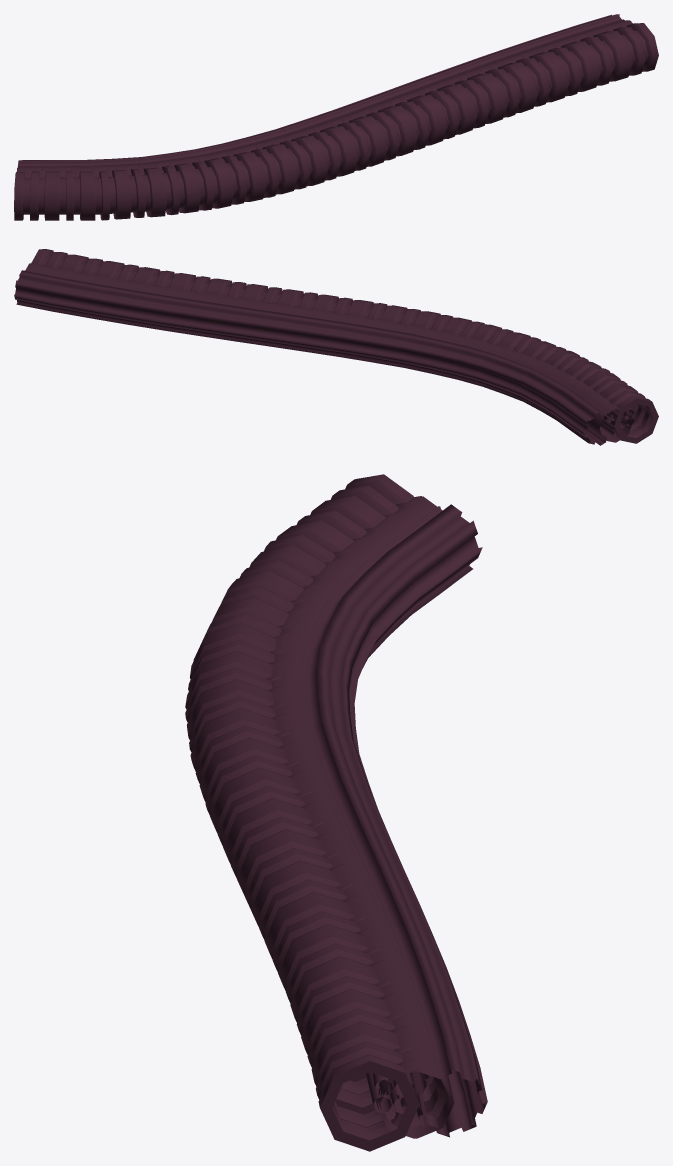
File: High Voltage Cables.fbx
3 views of the same model, one above another, from view 1: azimuth 30°, elevation 25°; view 2: azimuth 150°, elevation 25°; view 3: azimuth 270°, elevation 25° (orthographic). The views are drawn at different scales.
Visible parts, largest first — view 1: profile[01].001, profile[03].001, profile[00].001, profile[02].001; view 2: profile[03].001, profile[01].001, profile[00].001, profile[02].001, profile[04].001; view 3: profile[01].001, profile[03].001, profile[00].001, profile[02].001, profile[04].001.
Boxes of the visible parts, box(x1,y1,x2,y2) form: profile[01].001: box(14, 23, 658, 220); profile[03].001: box(17, 14, 624, 167); profile[00].001: box(17, 20, 629, 177); profile[02].001: box(16, 20, 632, 177); profile[03].001: box(14, 270, 615, 445); profile[01].001: box(31, 249, 658, 443); profile[00].001: box(26, 264, 632, 442); profile[02].001: box(29, 263, 633, 442); profile[04].001: box(81, 270, 634, 428); profile[01].001: box(185, 474, 419, 1151); profile[03].001: box(300, 504, 487, 1137); profile[00].001: box(268, 496, 454, 1138); profile[02].001: box(266, 496, 451, 1138); profile[04].001: box(283, 562, 412, 1114).
Bounding box in the file's own units: 164 × 34.97 × 11.57.
